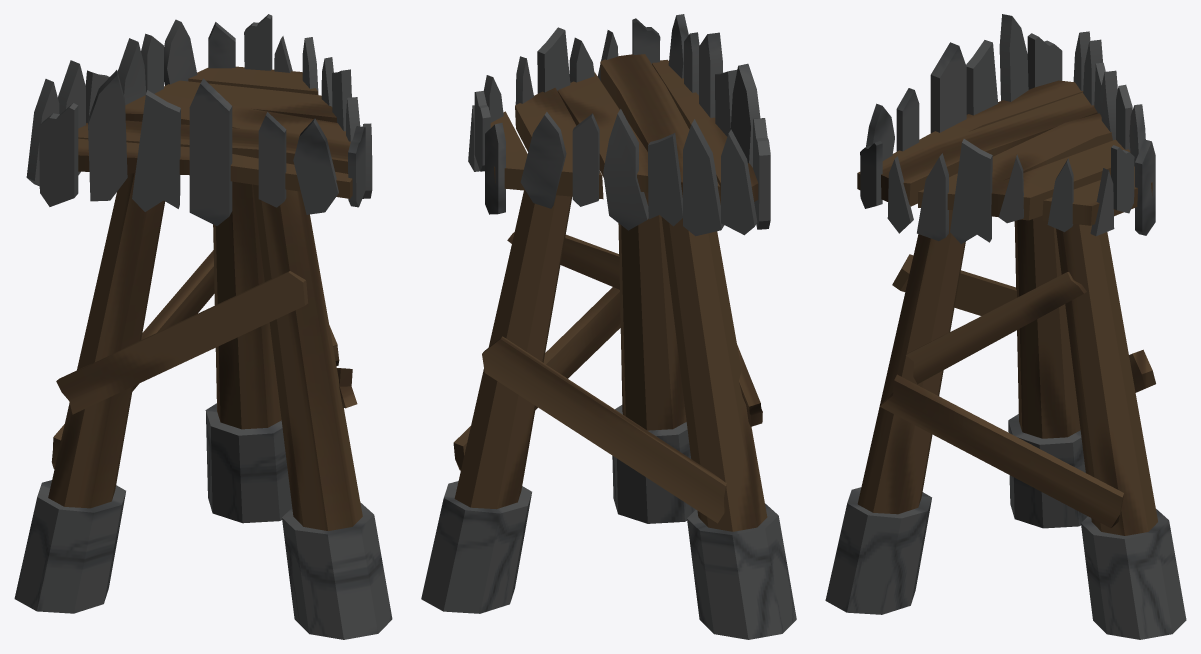
File: Tower 2 fixed.fbx
The picture shows the model from 3 angles, left to right: view 1: azimuth 30°, elevation 25°; view 2: azimuth 150°, elevation 25°; view 3: azimuth 270°, elevation 25°; orthographic projection. The views are drawn at different scales.
Visible parts, largest first — view 1: Tower_2; view 2: Tower_2; view 3: Tower_2.
Boxes of the visible parts, <box> form: Tower_2: <box>14,14,392,639</box>; Tower_2: <box>421,14,796,639</box>; Tower_2: <box>825,14,1186,639</box>.
Size of the model in its own units: 437 by 692 by 445.
